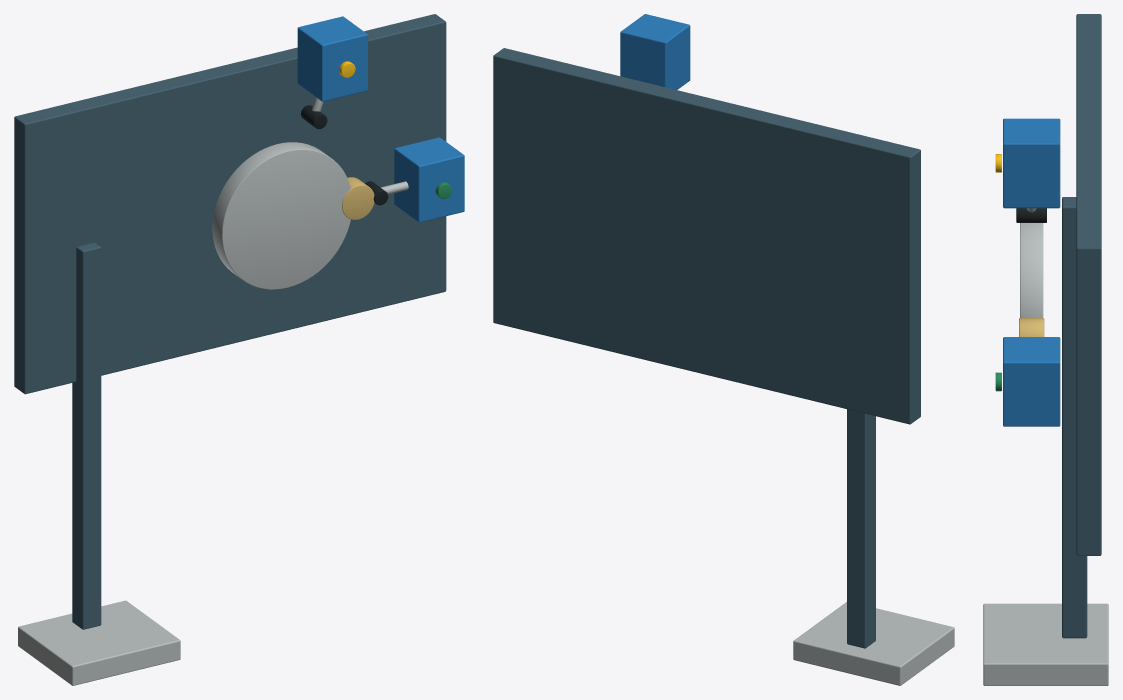
The model's file is bridge_limit_switches.glb.
The picture shows the model from 3 angles, left to right: view 1: azimuth 30°, elevation 25°; view 2: azimuth 150°, elevation 25°; view 3: azimuth 270°, elevation 25°; orthographic projection. The views are drawn at different scales.
Parts seen in each view (by area): view 1: LIMIT_mount_plate, KIN_cam_disc, LIMIT_mast, LIMIT_ground_base, LIMIT_housing_raised, LIMIT_housing_home, KIN_cam_lobe; view 2: LIMIT_mount_plate, LIMIT_ground_base, LIMIT_mast, LIMIT_housing_raised; view 3: LIMIT_mount_plate, LIMIT_ground_base, LIMIT_mast, LIMIT_housing_raised, LIMIT_housing_home, KIN_cam_disc, KIN_cam_lobe, LIMIT_roller_raised.
Boxes of the visible parts, x1,y1,x2,y2 form: LIMIT_mount_plate: [14, 14, 446, 394]; KIN_cam_disc: [212, 142, 350, 289]; LIMIT_mast: [72, 242, 101, 629]; LIMIT_ground_base: [18, 600, 180, 685]; LIMIT_housing_raised: [297, 16, 367, 101]; LIMIT_housing_home: [394, 137, 464, 222]; KIN_cam_lobe: [342, 177, 374, 219]; LIMIT_mount_plate: [493, 48, 920, 424]; LIMIT_ground_base: [793, 602, 954, 685]; LIMIT_mast: [847, 409, 875, 648]; LIMIT_housing_raised: [620, 14, 690, 89]; LIMIT_mount_plate: [1076, 14, 1101, 555]; LIMIT_ground_base: [983, 603, 1108, 685]; LIMIT_mast: [1062, 197, 1087, 638]; LIMIT_housing_raised: [1003, 118, 1060, 208]; LIMIT_housing_home: [1003, 337, 1060, 426]; KIN_cam_disc: [1020, 223, 1043, 317]; KIN_cam_lobe: [1019, 318, 1044, 336]; LIMIT_roller_raised: [1016, 208, 1046, 222].
Bounding box in the file's own units: 1.55 × 2.01 × 0.35.
